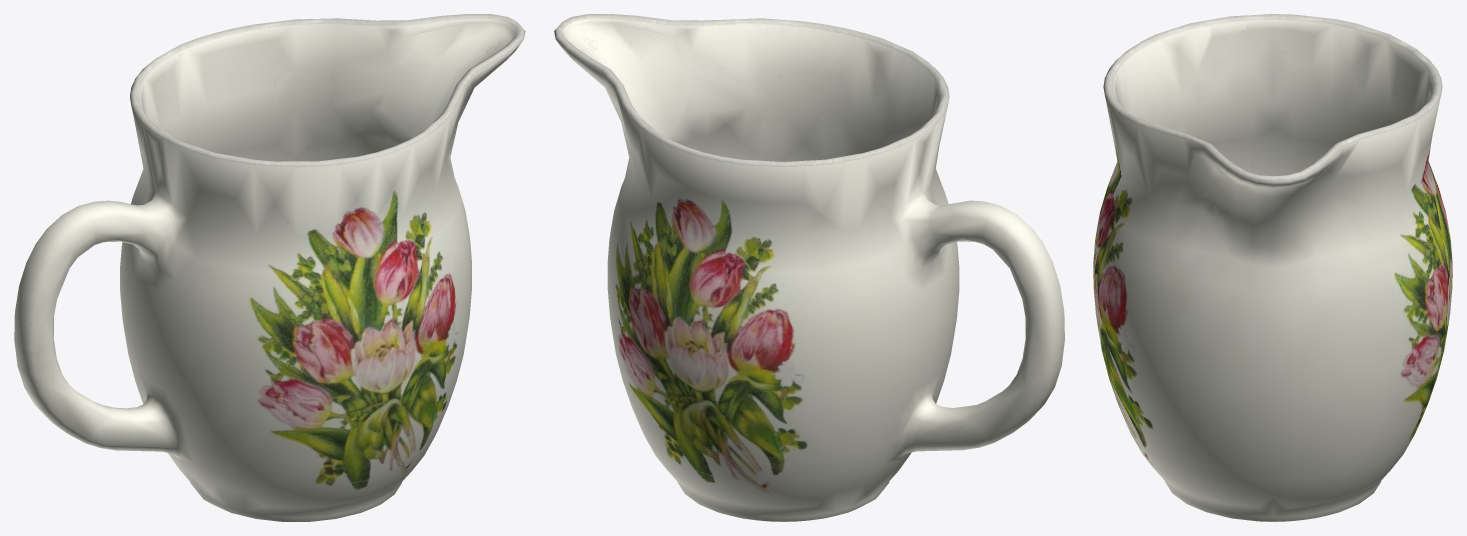
Rendered from jug_01.glb.
The picture shows the model from 3 angles, left to right: view 1: azimuth 30°, elevation 25°; view 2: azimuth 150°, elevation 25°; view 3: azimuth 270°, elevation 25°; orthographic projection. The views are drawn at different scales.
Visible parts, largest first — view 1: jug_01; view 2: jug_01; view 3: jug_01.
Part boxes in pixels (x1=…): jug_01: x1=14, y1=14, x2=525, y2=521; jug_01: x1=554, y1=14, x2=1064, y2=521; jug_01: x1=1093, y1=14, x2=1452, y2=521.
Size of the model in its own units: 0.275 by 0.2113 by 0.1675.
Materials: 1 (1 with a texture image).
